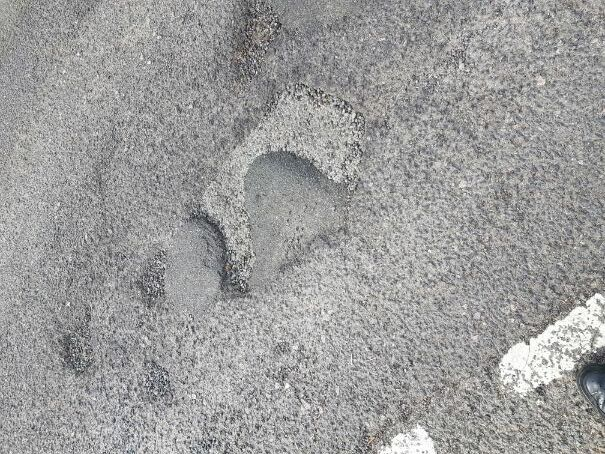pothole: (183, 77, 396, 298)
